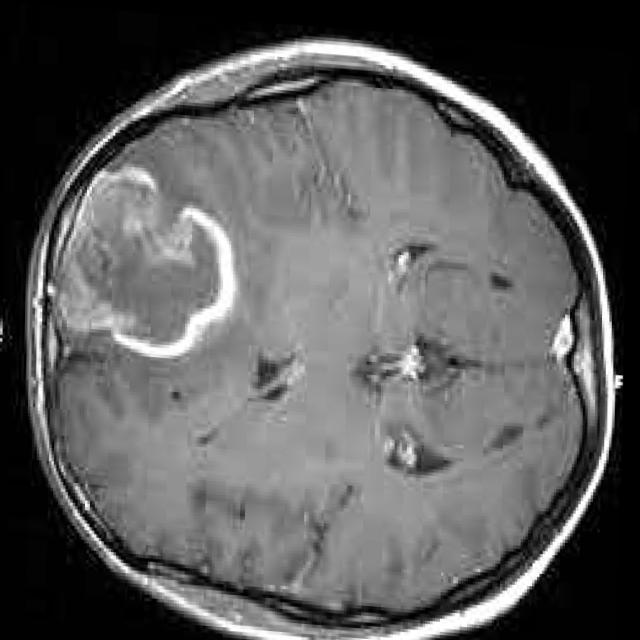Tumor: (54, 163, 232, 352)
